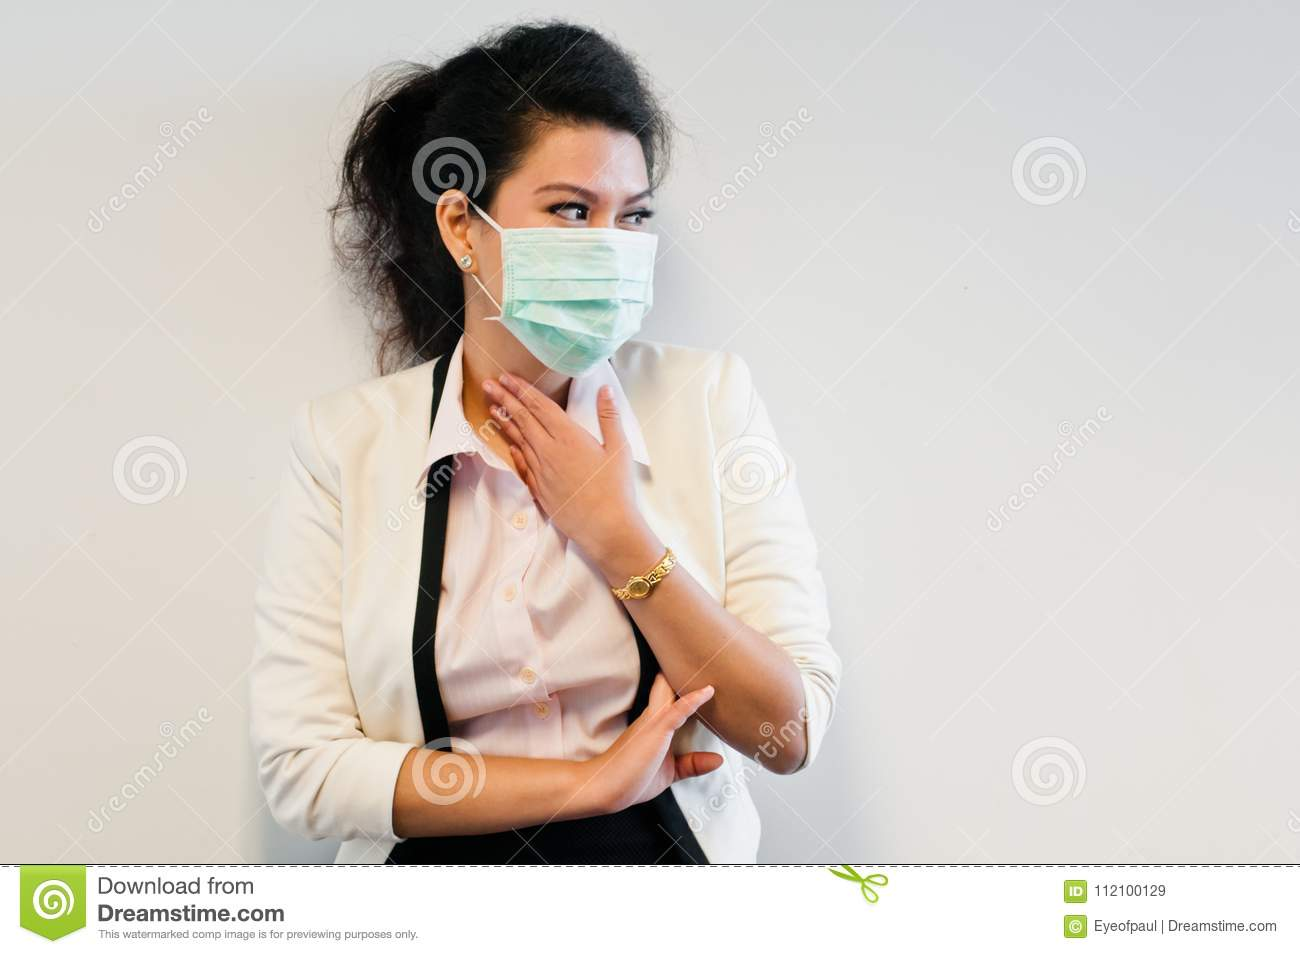mask: (491, 232, 663, 379)
